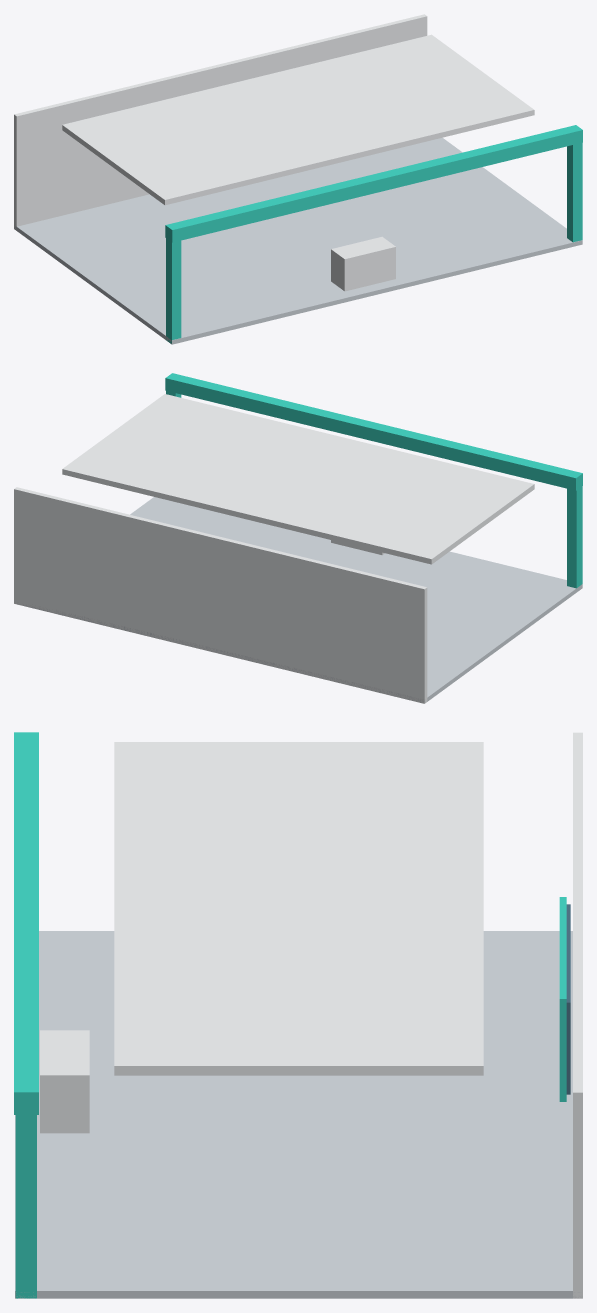
3 views of the same model, one above another, from view 1: azimuth 30°, elevation 25°; view 2: azimuth 150°, elevation 25°; view 3: azimuth 270°, elevation 25° (orthographic). The views are drawn at different scales.
Parts seen in each view (by area): view 1: Exhibition Booth Concept; view 2: Exhibition Booth Concept; view 3: Exhibition Booth Concept.
Boxes of the visible parts, bbox=[...] form: Exhibition Booth Concept: bbox=[14, 14, 582, 344]; Exhibition Booth Concept: bbox=[14, 373, 582, 703]; Exhibition Booth Concept: bbox=[14, 732, 582, 1298].
Bounding box in the file's own units: 12 × 3.34 × 8.01.
